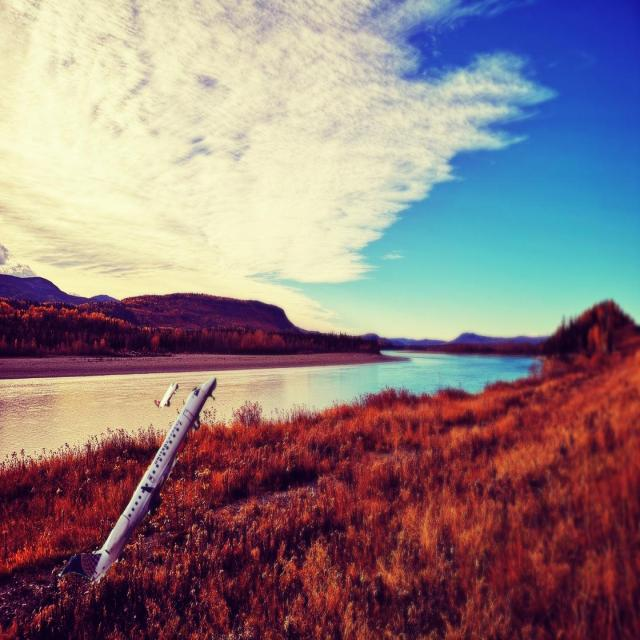airplane: (57, 376, 217, 586), (154, 381, 178, 408)
